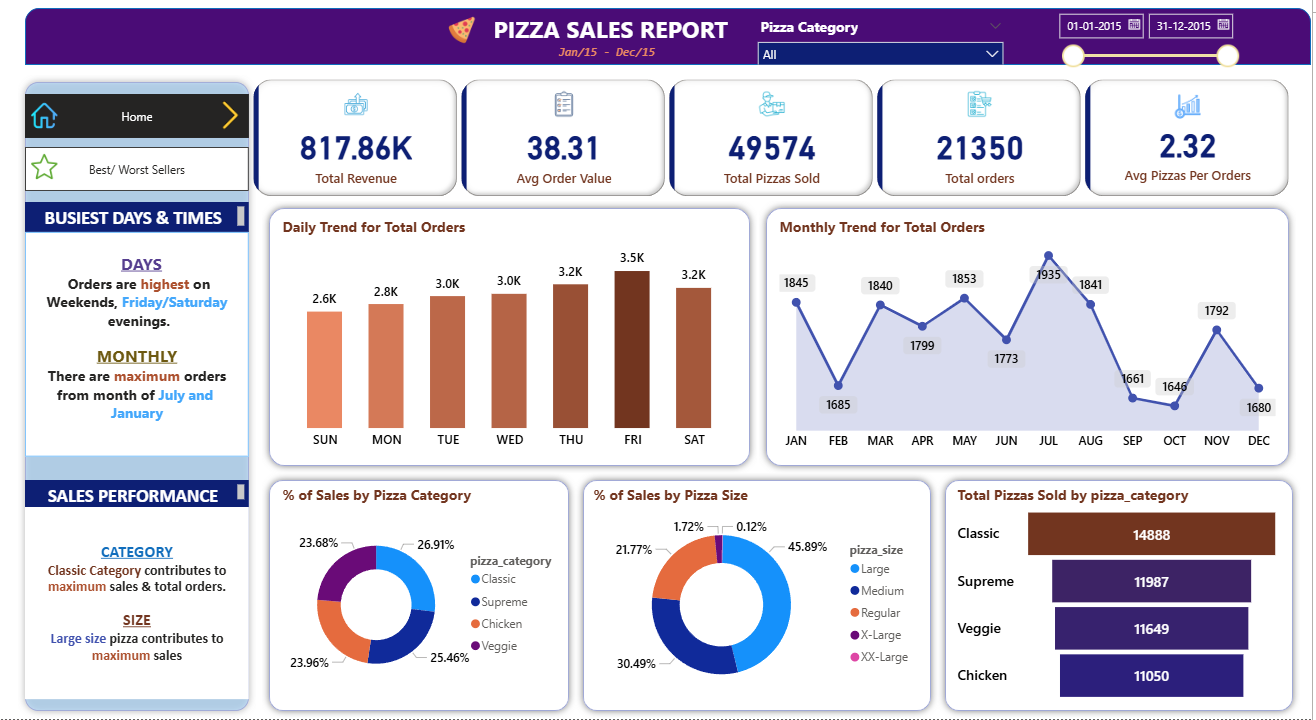

What the dashboard file says about the page in this screenshot:
{"tool":"powerbi","page":{"name":"Home","canvas":[1500,820],"ordinal":0},"visuals":[{"type":"cardVisual","fields":{"Data":["pizza_sales.Total Revenue","pizza_sales.Avg Order Value","pizza_sales.Total Pizzas Sold","pizza_sales.Total orders","pizza_sales.Avg Pizzas Per Orders"]},"box":[288.4,86.6,1193.4,143.6],"z":0},{"type":"shape","box":[33.1,10.3,1465.8,65],"z":1000},{"type":"shape","box":[25.1,86.6,271.3,732.9],"z":2000},{"type":"textbox","box":[33.1,231.4,255.3,34.2],"z":3000},{"type":"textbox","box":[561.9,10.3,288.4,50.2],"z":4000},{"type":"textbox","box":[636,45.6,141.3,27.4],"z":5000},{"type":"image","box":[508.4,14.8,44.5,41],"z":6000},{"type":"shape","box":[303.2,230.2,564.2,310],"z":7000},{"type":"columnChart","title":"Daily Trend for Total Orders","fields":{"Category":["pizza_sales.Order Day"],"Y":["pizza_sales.Total orders"]},"box":[321.4,248.5,528.9,273.6],"z":8000},{"type":"shape","box":[869.7,230.2,612.1,310],"z":9000},{"type":"areaChart","title":"Monthly Trend for Total Orders","fields":{"Category":["pizza_sales.Order Month"],"Y":["pizza_sales.Total orders"]},"box":[887.9,248.5,575.6,273.6],"z":10000},{"type":"shape","box":[303.2,540.3,357.9,279.3],"z":11000},{"type":"shape","box":[661.1,540.3,412.6,279.3],"z":12000},{"type":"shape","box":[1073.7,540.3,412.6,279.3],"z":13000},{"type":"donutChart","title":"% of Sales by Pizza Category","fields":{"Category":["pizza_sales.pizza_category"],"Y":["pizza_sales.Total Revenue"]},"box":[321.4,554,323.7,251.9],"z":14000},{"type":"donutChart","title":"% of Sales by Pizza Size","fields":{"Y":["pizza_sales.Total Revenue"],"Category":["pizza_sales.pizza_size"]},"box":[675.9,554,381.8,251.9],"z":15000},{"type":"funnel","title":"Total Pizzas Sold by pizza_category","fields":{"Category":["pizza_sales.pizza_category"],"Y":["pizza_sales.Total Pizzas Sold"]},"box":[1090.8,554,377.3,251.9],"z":16000},{"type":"textbox","box":[33.1,265.6,255.3,256.5],"z":17000},{"type":"textbox","box":[33.1,548.3,255.3,30.8],"z":18000},{"type":"textbox","box":[33.1,579,255.3,218.8],"z":19000},{"type":"slicer","fields":{"Values":["pizza_sales.pizza_category"]},"box":[858.3,16,299.8,59.3],"z":20000},{"type":"slicer","fields":{"Values":["pizza_sales.order_date"]},"box":[1199.1,6.8,225.7,72.9],"z":21000},{"type":"pageNavigator","box":[33.1,108.3,255.3,50.2],"z":21001},{"type":"pageNavigator","box":[33.1,168.7,255.3,50.2],"z":21002},{"type":"image","box":[246.2,109.4,42.2,46.7],"z":21003},{"type":"image","box":[33.1,112.8,43.3,39.9],"z":21004},{"type":"image","box":[33.1,171,43.3,39.9],"z":21005}]}

Visuals, with their boxes in screenshot pixels (x1, y1, x2, y2), scaled from the page's 1500x820 canvas onto the 1316x720 screenshot:
cardVisual - pizza_sales.Total Revenue x pizza_sales.Avg Order Value: BBox(253, 76, 1300, 202)
shape: BBox(29, 9, 1315, 66)
shape: BBox(22, 76, 260, 719)
textbox: BBox(29, 203, 253, 233)
textbox: BBox(493, 9, 746, 53)
textbox: BBox(558, 40, 682, 64)
image: BBox(446, 13, 485, 49)
shape: BBox(266, 202, 761, 474)
"Daily Trend for Total Orders" columnChart: BBox(282, 218, 746, 458)
shape: BBox(763, 202, 1300, 474)
"Monthly Trend for Total Orders" areaChart: BBox(779, 218, 1284, 458)
shape: BBox(266, 474, 580, 719)
shape: BBox(580, 474, 942, 719)
shape: BBox(942, 474, 1304, 719)
"% of Sales by Pizza Category" donutChart: BBox(282, 486, 566, 708)
"% of Sales by Pizza Size" donutChart: BBox(593, 486, 928, 708)
"Total Pizzas Sold by pizza_category" funnel: BBox(957, 486, 1288, 708)
textbox: BBox(29, 233, 253, 458)
textbox: BBox(29, 481, 253, 508)
textbox: BBox(29, 508, 253, 701)
slicer - pizza_sales.pizza_category: BBox(753, 14, 1016, 66)
slicer - pizza_sales.order_date: BBox(1052, 6, 1250, 70)
pageNavigator: BBox(29, 95, 253, 139)
pageNavigator: BBox(29, 148, 253, 192)
image: BBox(216, 96, 253, 137)
image: BBox(29, 99, 67, 134)
image: BBox(29, 150, 67, 185)
